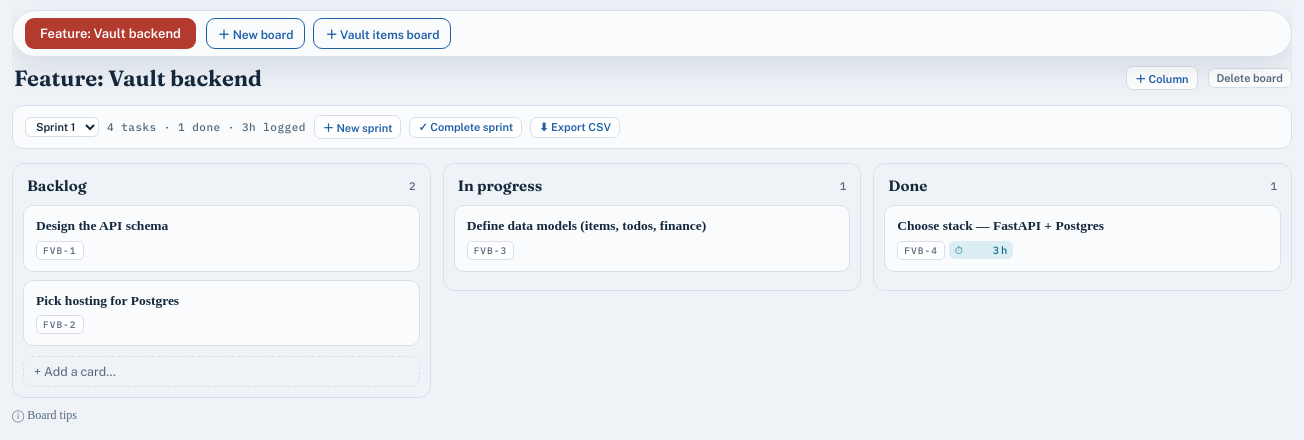
Test: CustomBoards — Vault items board is opt-in (item #5) › adds the Vault items board on demand, then hides it again
Expected: the tab "Feature: Vault backend" is shown, x1=25 y1=18 x2=196 y2=49
Step 1. Click the button "＋ Vault items board" → [382, 34], box x1=313 y1=18 x2=451 y2=49
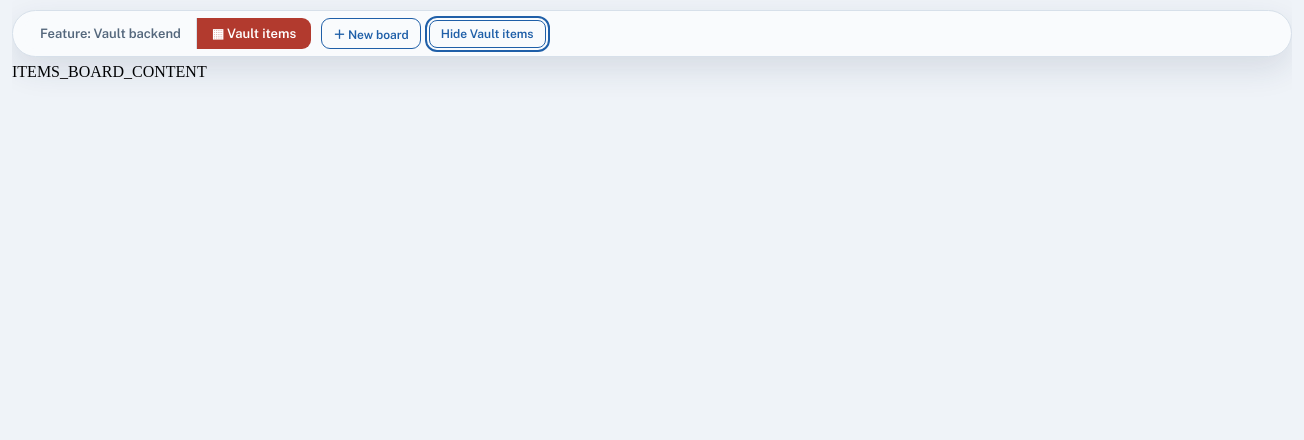
Result: the tab "▦ Vault items" is shown at x1=197 y1=18 x2=311 y2=49
Result: the text "ITEMS_BOARD_CONTENT" is shown at x1=12 y1=63 x2=207 y2=80
Step 2. Click the button "Hide Vault items" → [487, 34], box x1=429 y1=20 x2=546 y2=48
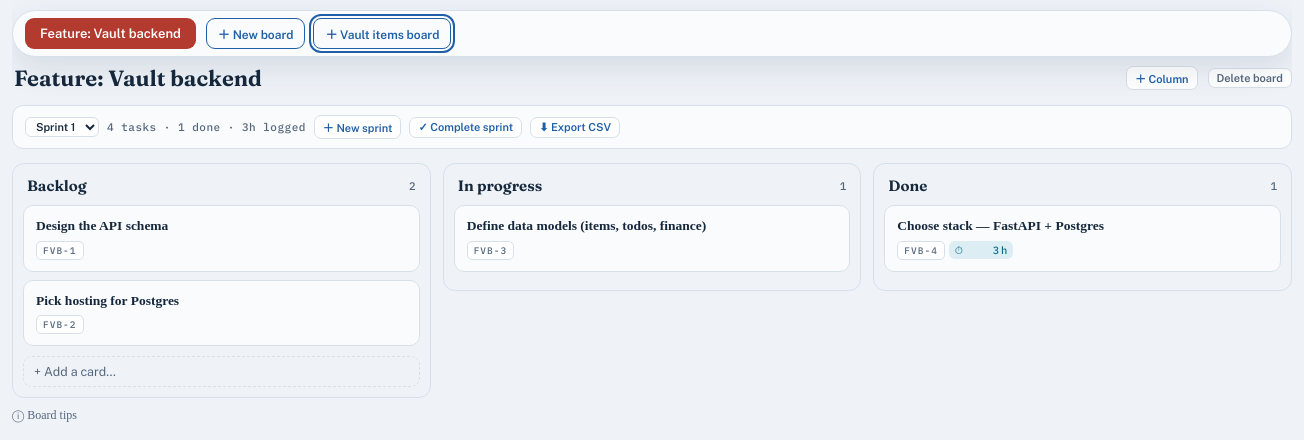
Result: the text "ITEMS_BOARD_CONTENT" is gone
